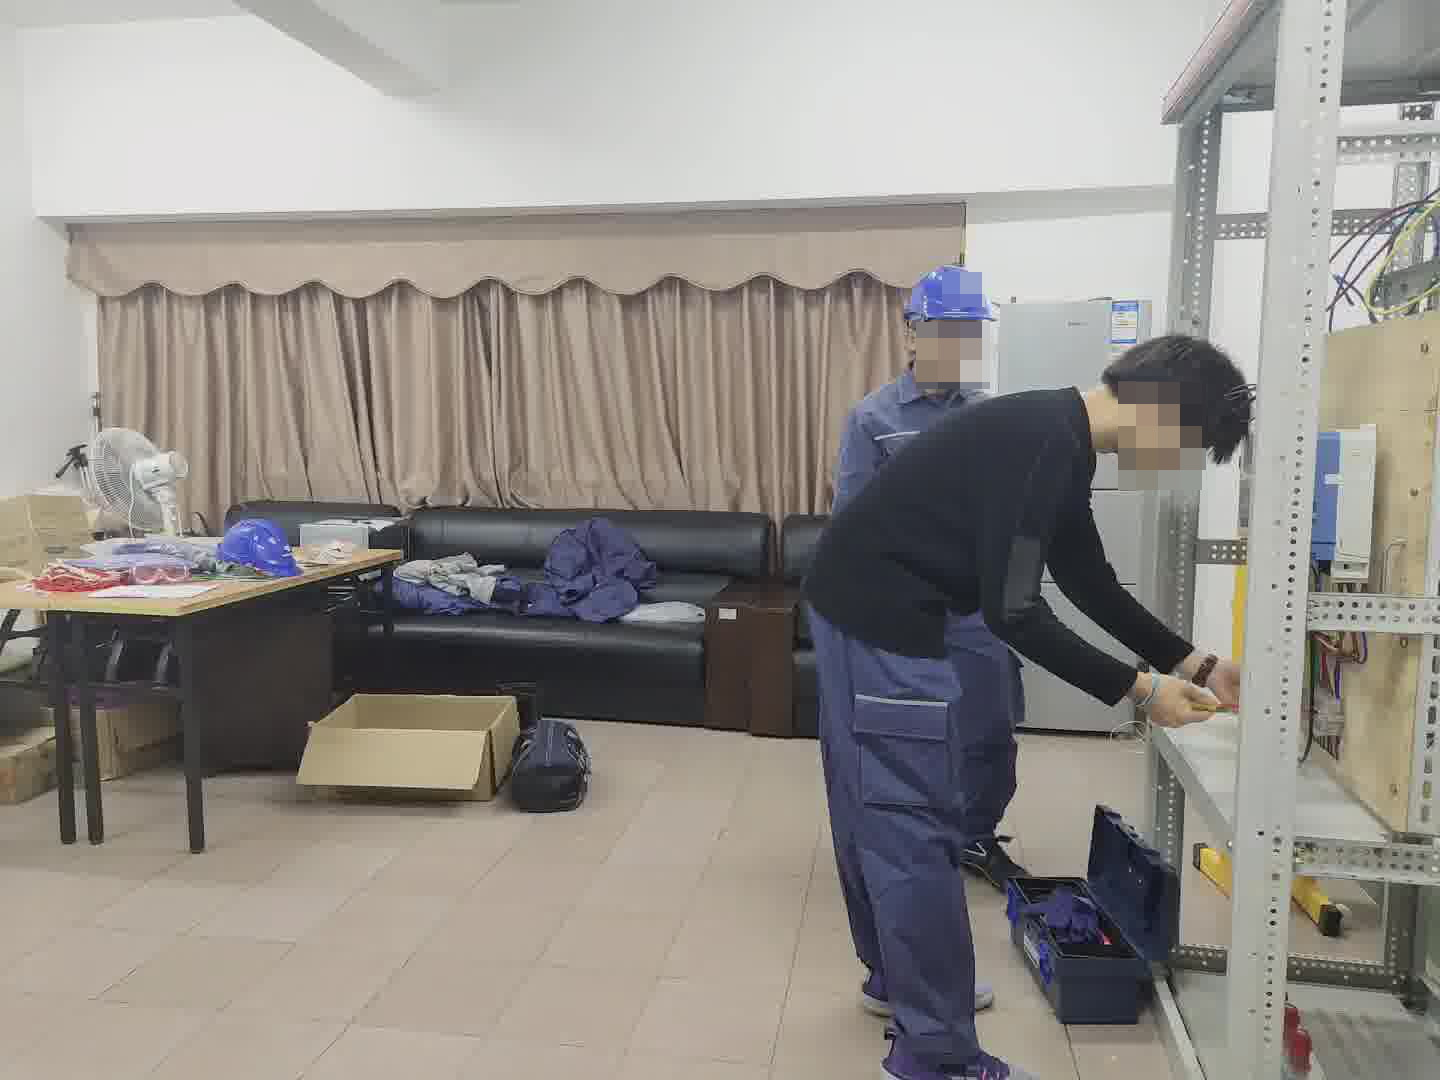downsuit: (803, 620, 1005, 1042)
halt: (898, 263, 999, 390)
hand: (1121, 672, 1223, 731), (1191, 646, 1241, 710)
inear: (892, 324, 941, 378)
noear: (1141, 383, 1179, 441)
person: (810, 335, 1253, 1080), (828, 256, 1007, 460)
unhalt: (1087, 331, 1253, 491)
upcloth: (824, 394, 1113, 657)
